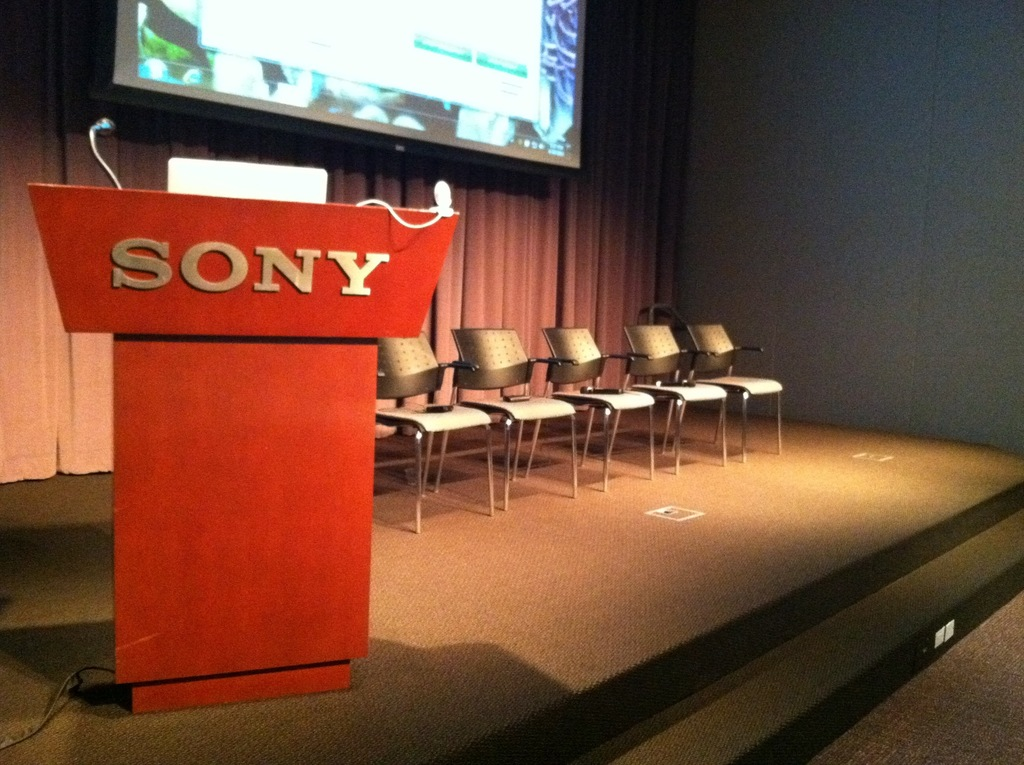Chair: (361, 328, 484, 539), (442, 329, 574, 512), (543, 321, 653, 488), (624, 316, 711, 481), (690, 328, 789, 466)
